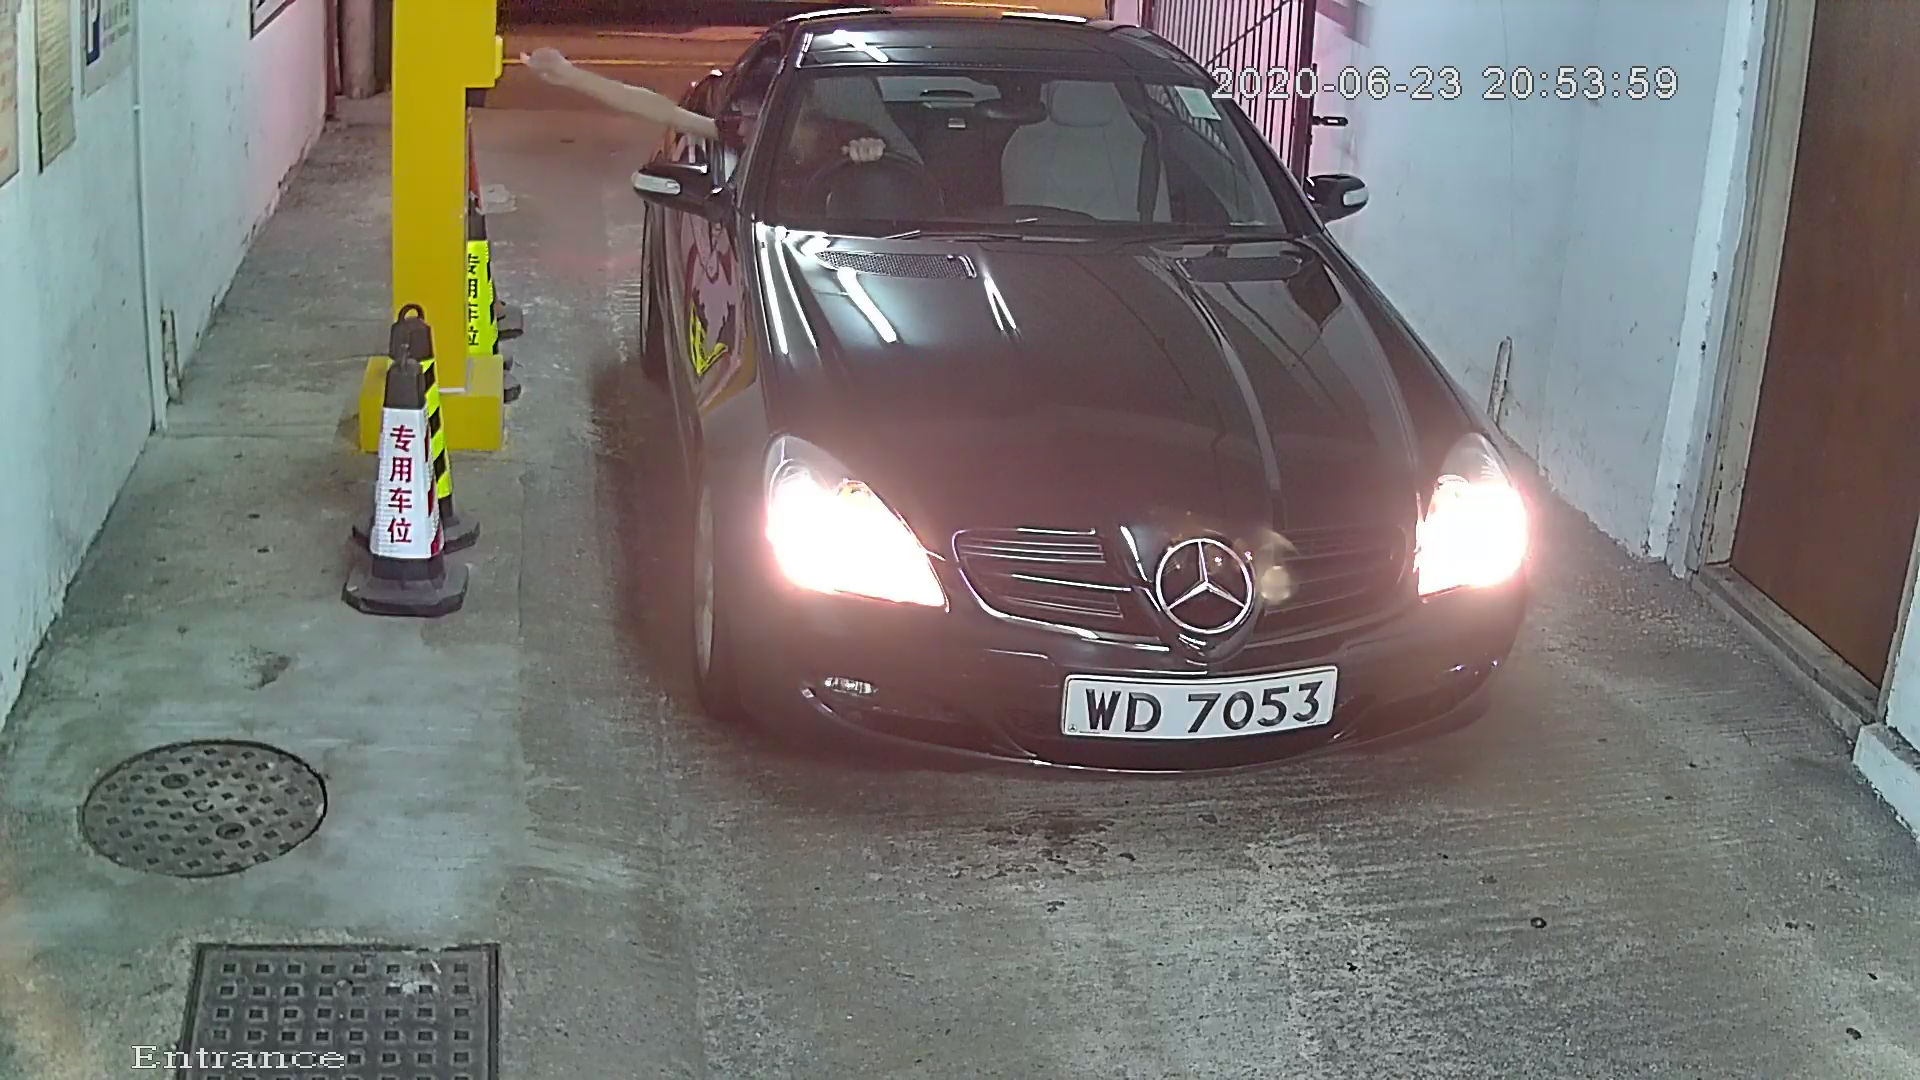privatecar: (616, 1, 1572, 802)
